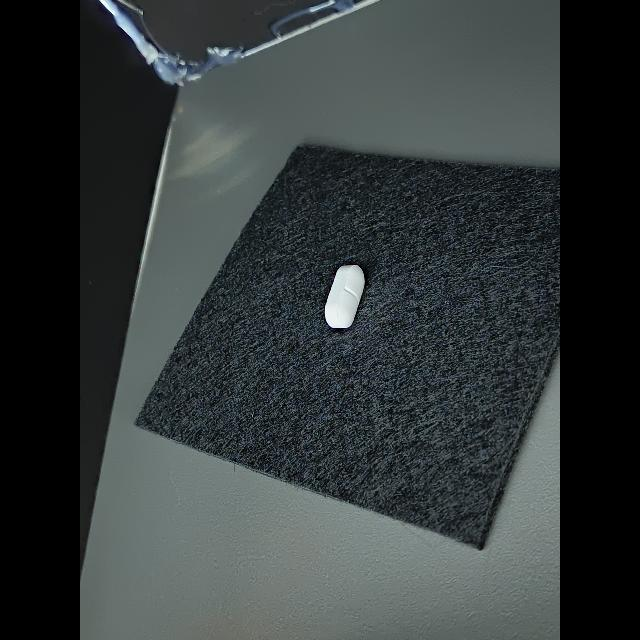Intact Pill: (325, 265, 365, 328)
